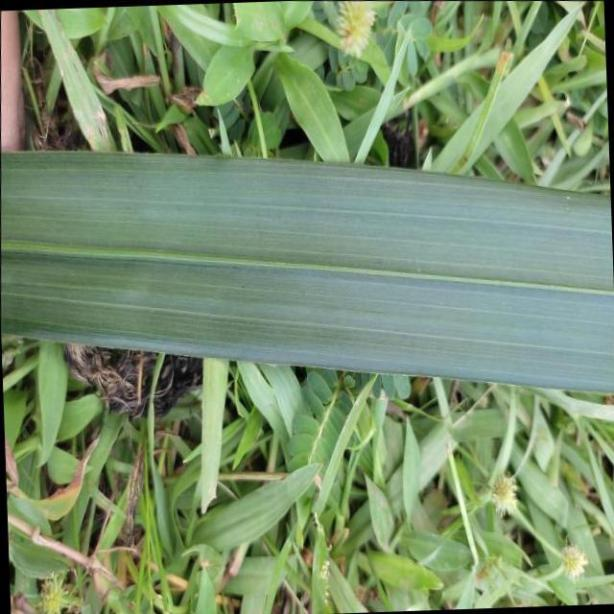Healthy: (0, 150, 614, 392)
